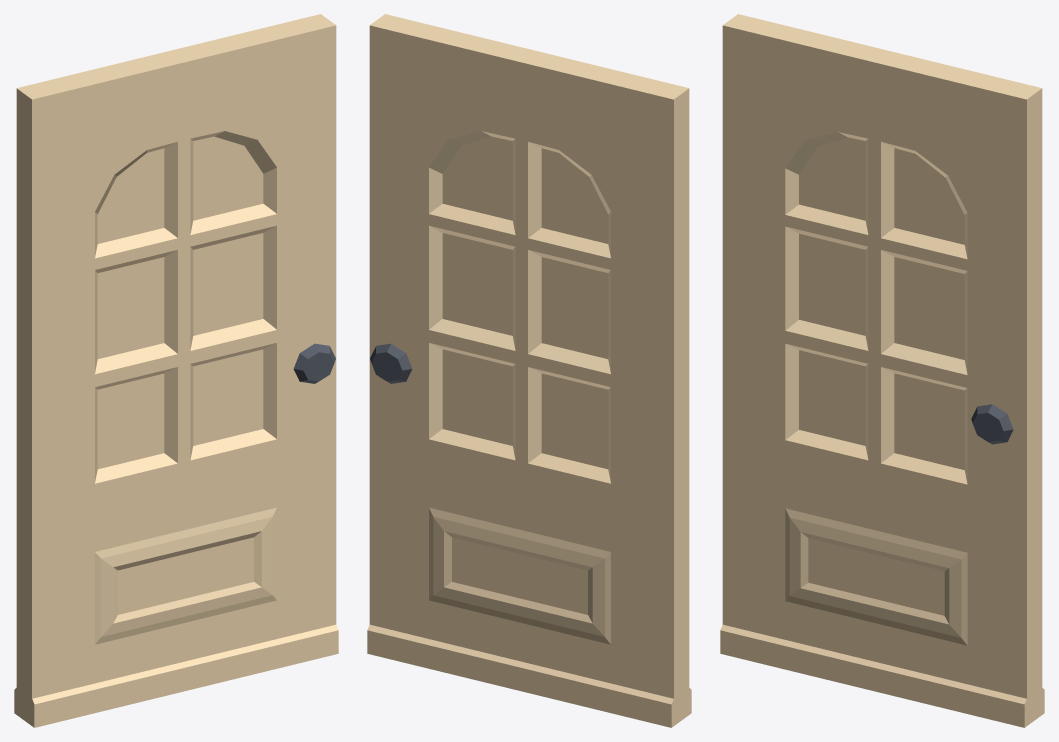
The model's file is DOOR.fbx.
3 renders of one model, left to right at view 1: azimuth 30°, elevation 25°; view 2: azimuth 150°, elevation 25°; view 3: azimuth 330°, elevation 25°, orthographic.
Parts seen in each view (by area): view 1: House_Door; view 2: House_Door; view 3: House_Door.
Part boxes in pixels (x1,y1,x2,y2): House_Door: (14,14,338,727); House_Door: (367,14,691,727); House_Door: (720,14,1044,727).
Size of the model in its own units: 0.1252 by 0.2464 by 0.0263.
